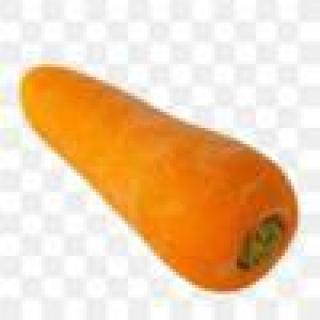Wortel: (7, 59, 302, 305)
